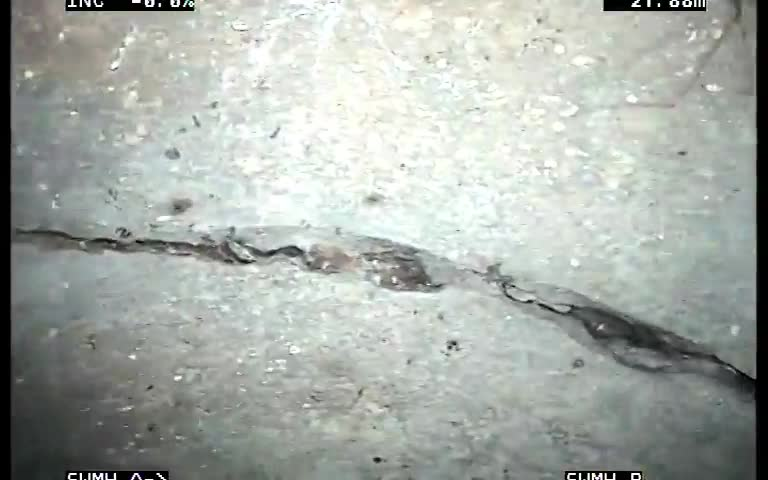Crack: (19, 188, 750, 427)
